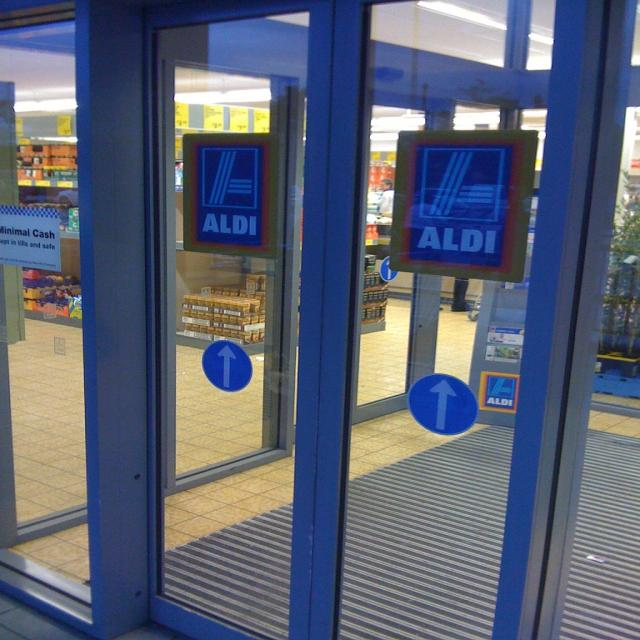aldi: (389, 130, 540, 284), (183, 134, 279, 257), (479, 372, 521, 414)
